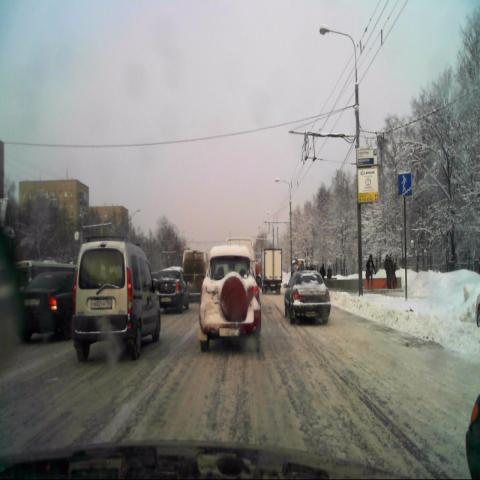6_6: (398, 172, 412, 197)
